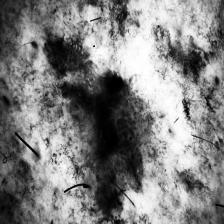Benign Marking or Mole: (44, 35, 145, 212)
